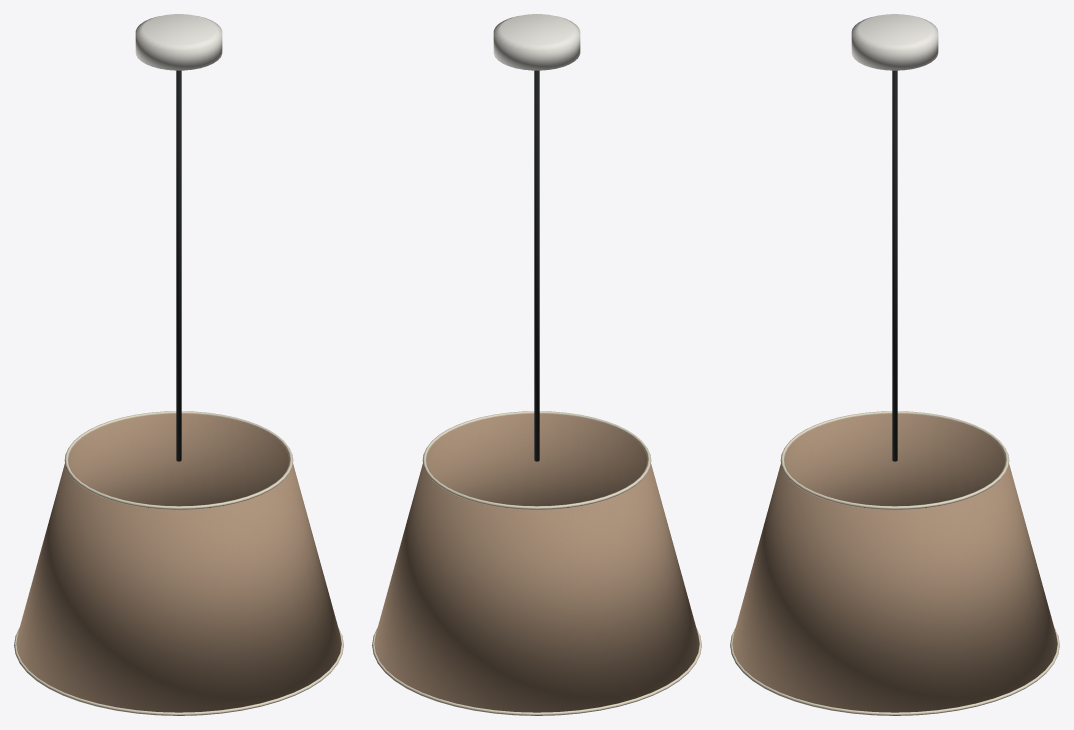
Rendered from country.pendant.gltf.
3 renders of one model, left to right at view 1: azimuth 30°, elevation 25°; view 2: azimuth 150°, elevation 25°; view 3: azimuth 270°, elevation 25°, orthographic.
Parts seen in each view (by area): view 1: country.pendant.ceiling-rose; view 2: country.pendant.ceiling-rose; view 3: country.pendant.ceiling-rose.
Boxes of the visible parts, <box> form: country.pendant.ceiling-rose: <box>14,14,343,715</box>; country.pendant.ceiling-rose: <box>372,14,701,715</box>; country.pendant.ceiling-rose: <box>730,14,1059,715</box>.
Size of the model in its own units: 0.364 by 0.7517 by 0.364.
Materials: 5 (1 with a texture image).
